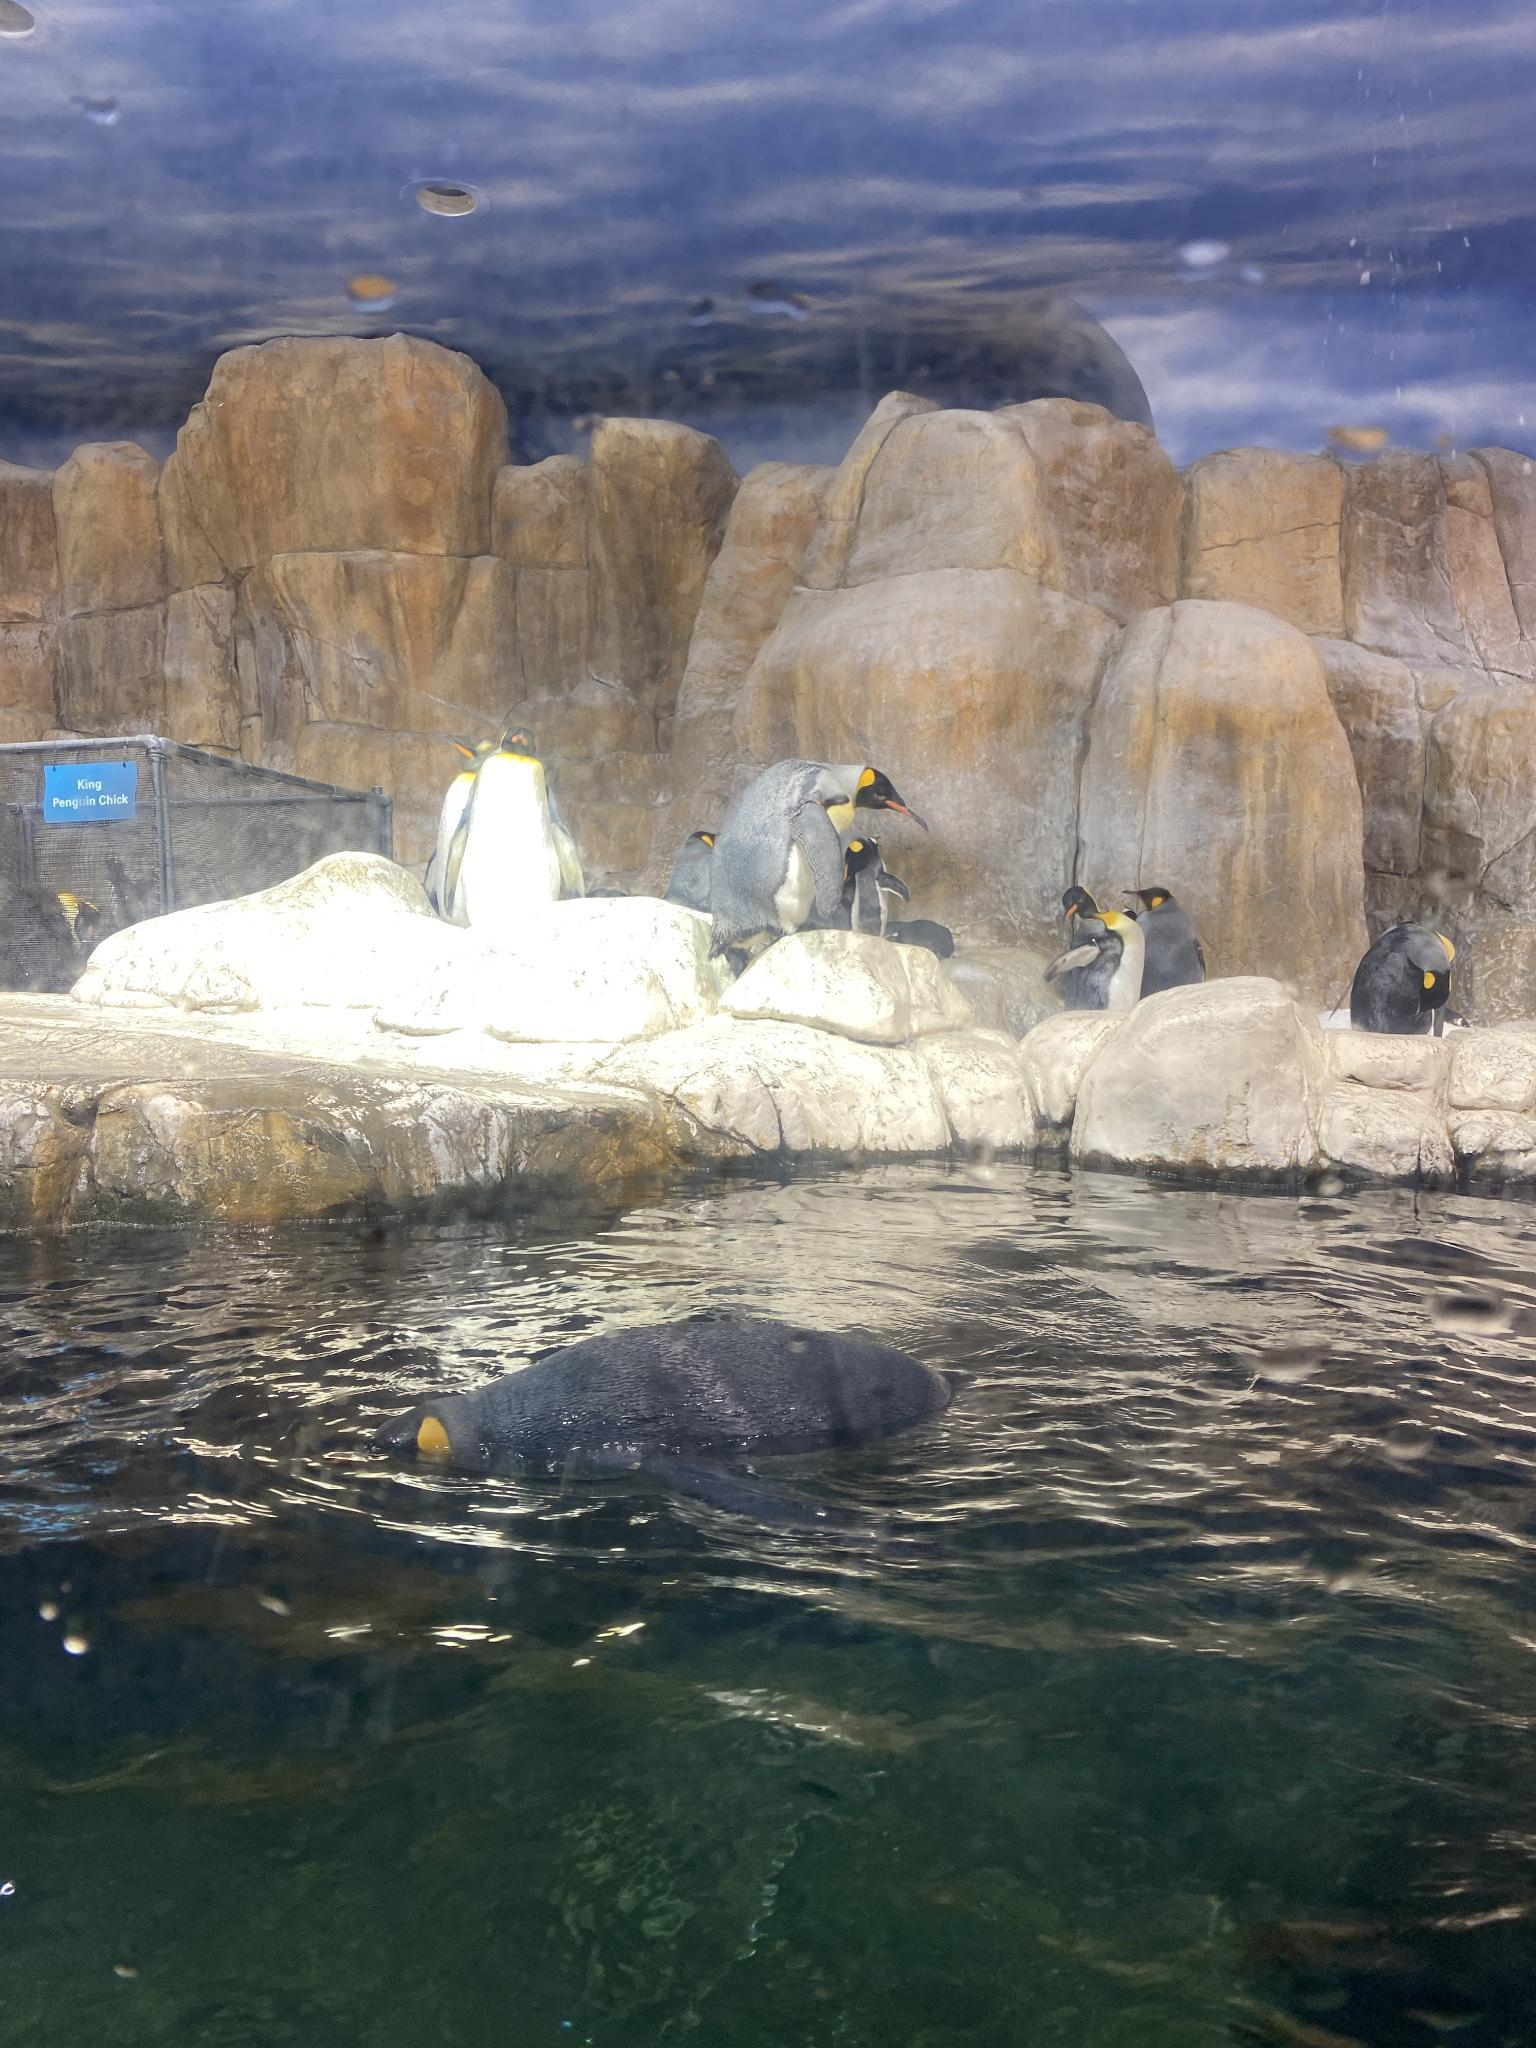penguin: (321, 1317, 975, 1529), (720, 731, 887, 969), (452, 731, 581, 911), (408, 708, 495, 914), (1346, 903, 1462, 1042), (837, 821, 941, 969), (1084, 889, 1162, 1018), (1136, 871, 1200, 1009), (674, 814, 736, 935), (1070, 879, 1108, 1001)
